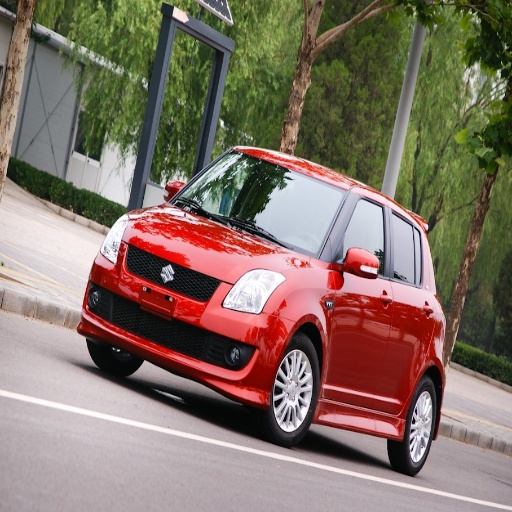front_bumper: (204, 354, 257, 385)
front_glass: (172, 153, 345, 256)
front_left_door: (328, 192, 393, 406)
trunk: (110, 263, 219, 307)
